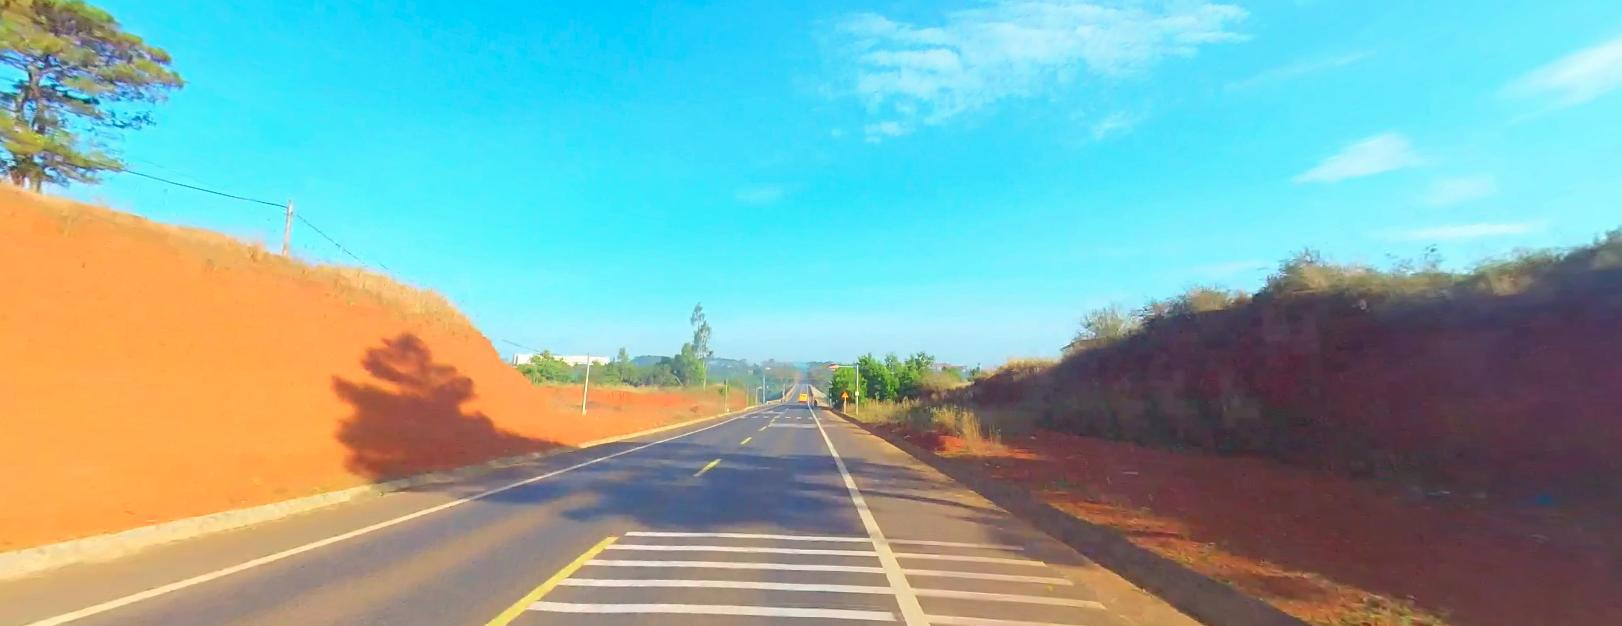Nguy hiem: (840, 389, 848, 395)
